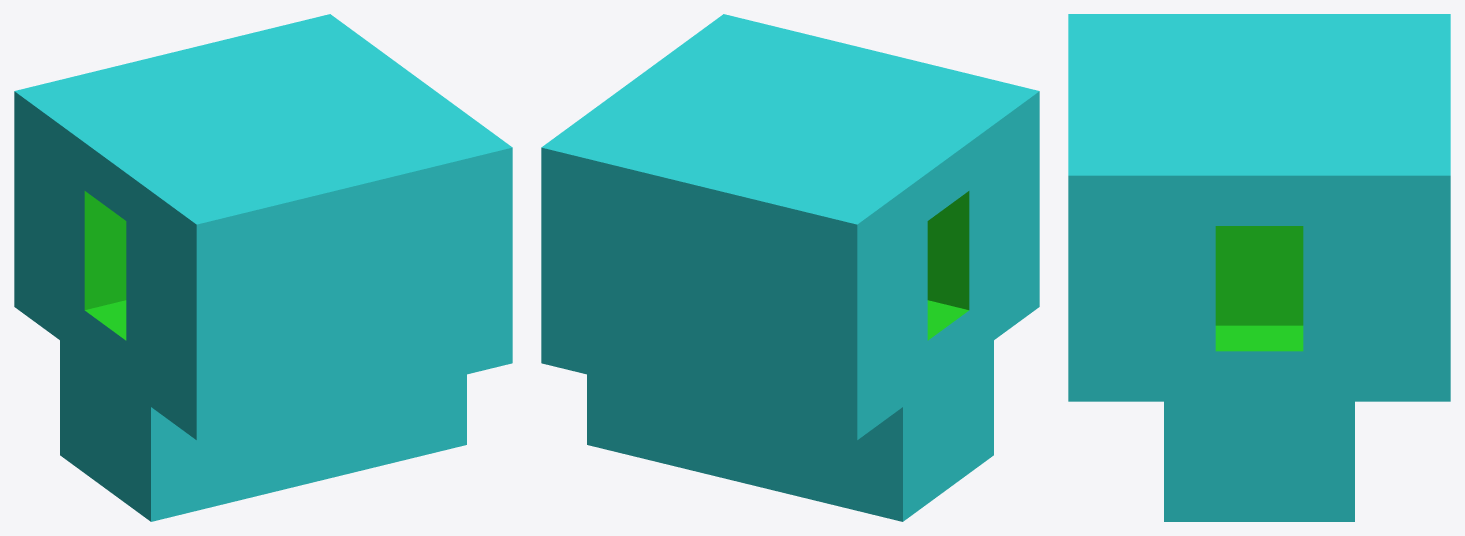
3 renders of one model, left to right at view 1: azimuth 30°, elevation 25°; view 2: azimuth 150°, elevation 25°; view 3: azimuth 270°, elevation 25°, orthographic. The views are drawn at different scales.
Visible parts, largest first — view 1: Cube; view 2: Cube; view 3: Cube.
Part boxes in pixels (left/top/right/bottom): Cube: left=14, top=14, right=512, bottom=521; Cube: left=541, top=14, right=1039, bottom=521; Cube: left=1068, top=14, right=1450, bottom=521.
Size of the model in its own units: 200 by 200 by 200.
